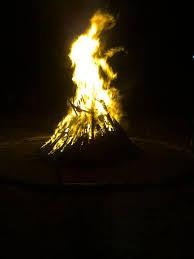Fire: (54, 13, 123, 143)
